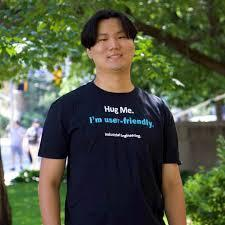Tshirt: (37, 83, 192, 225)
